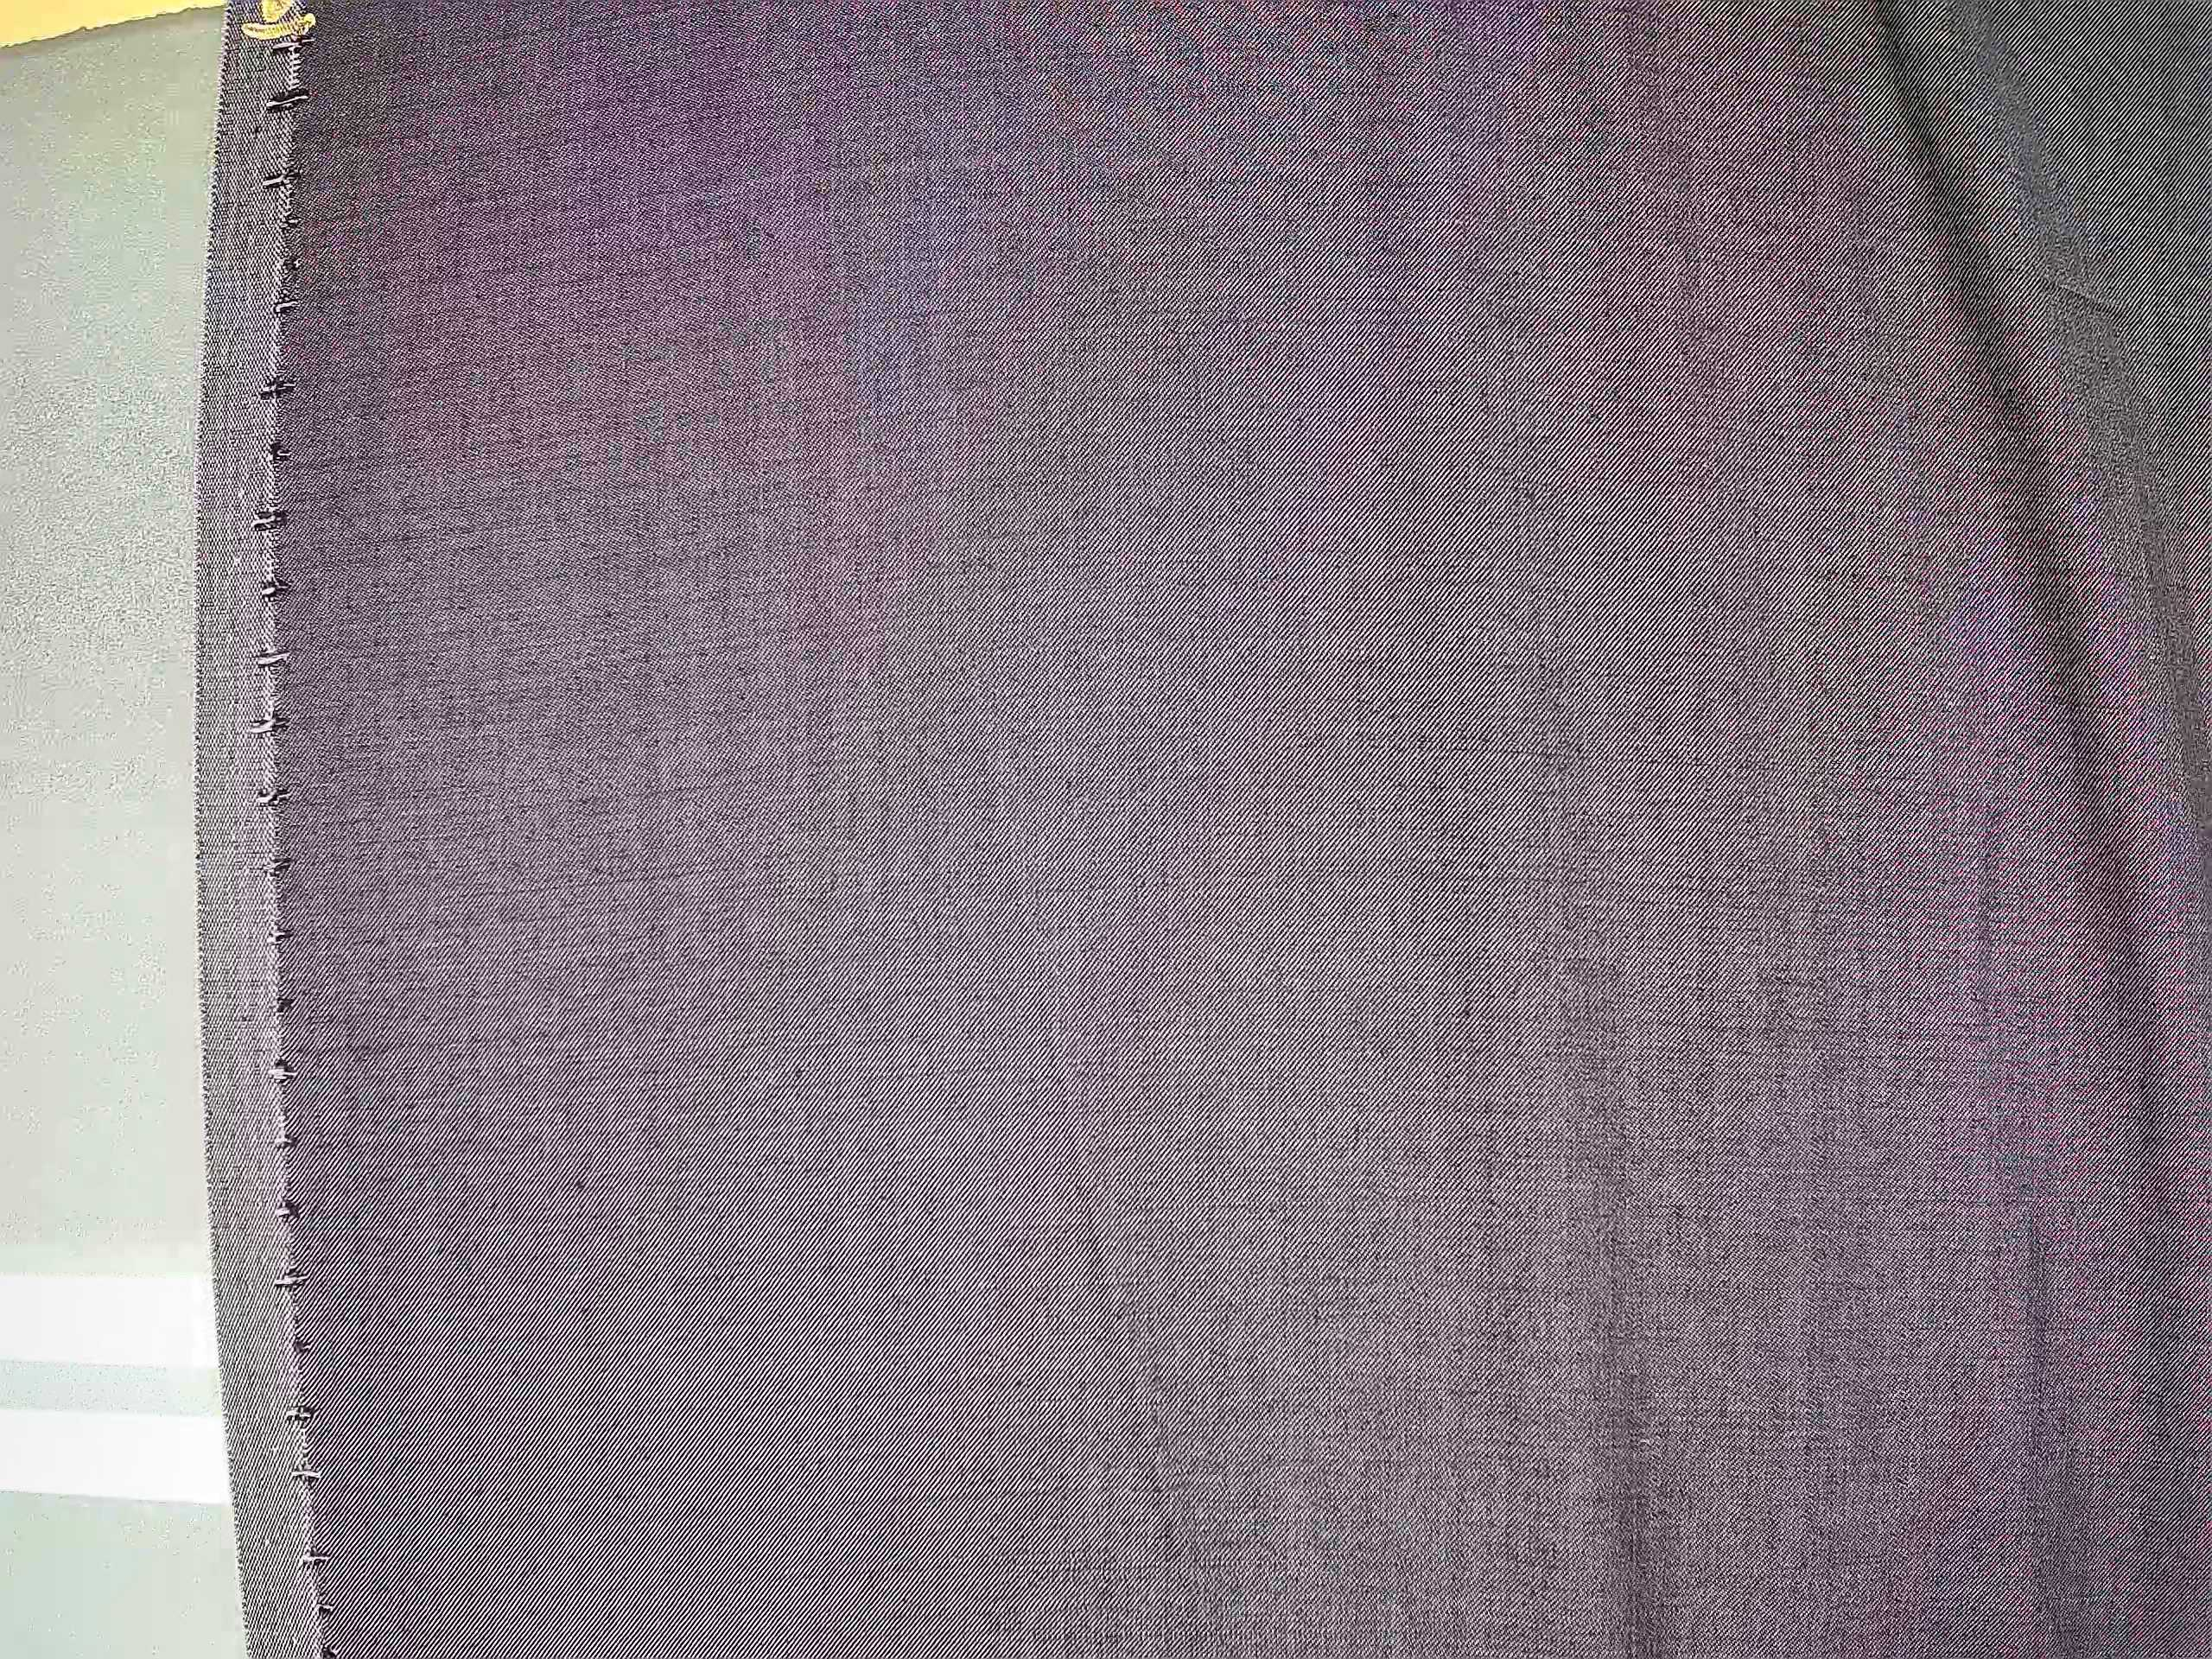puncture-hole: (253, 77, 350, 1650)
